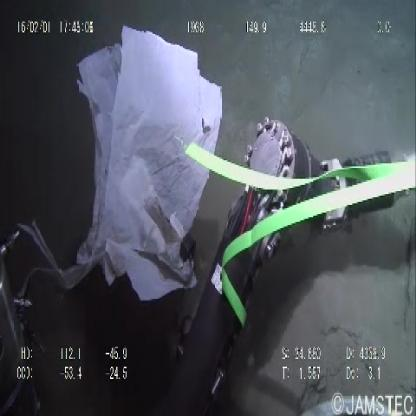Rov: (177, 117, 416, 399)
Rác: (73, 23, 227, 307)
